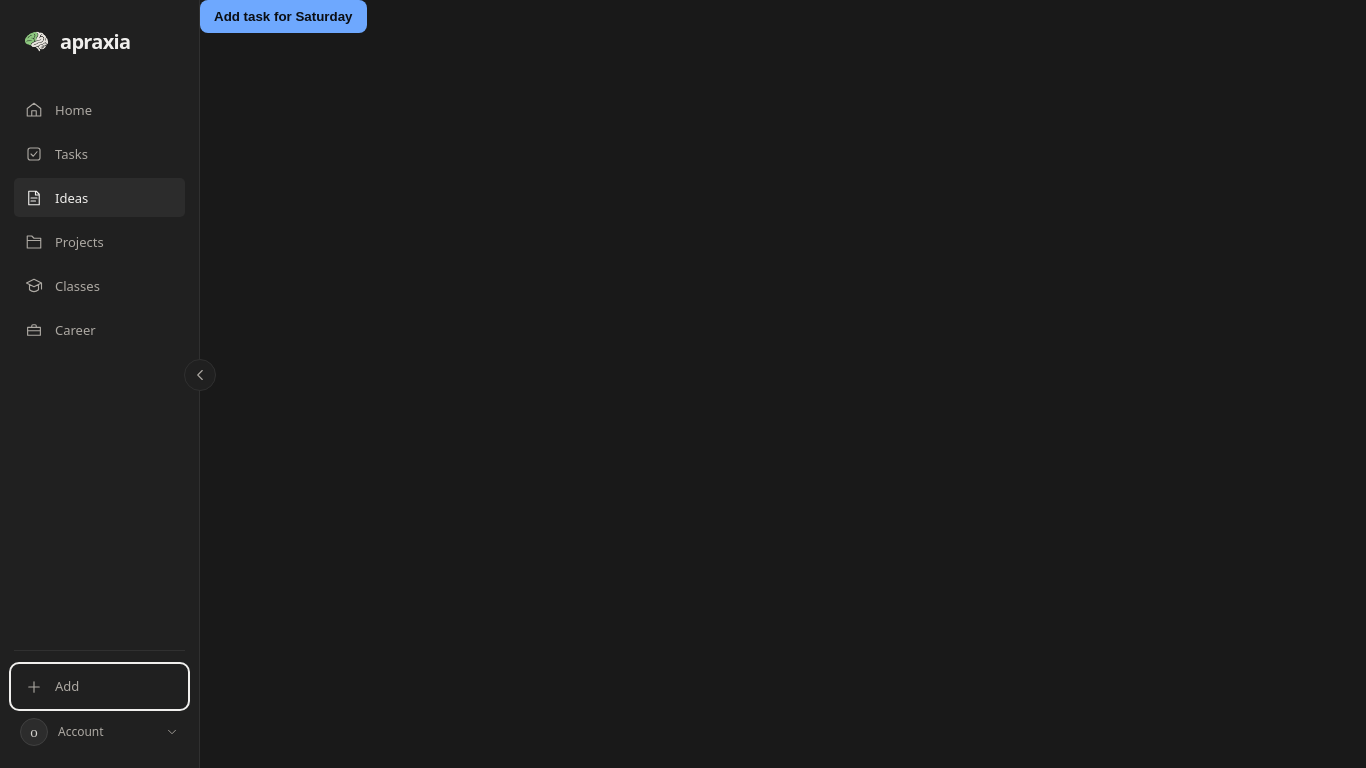
it: GlobalAddTodoController › preserves exact input when TodoService fails and permits a safe retry
The image size is (1366, 768).
Click the button with aria-label "+ add" at (100, 686), box [14, 667, 185, 706]
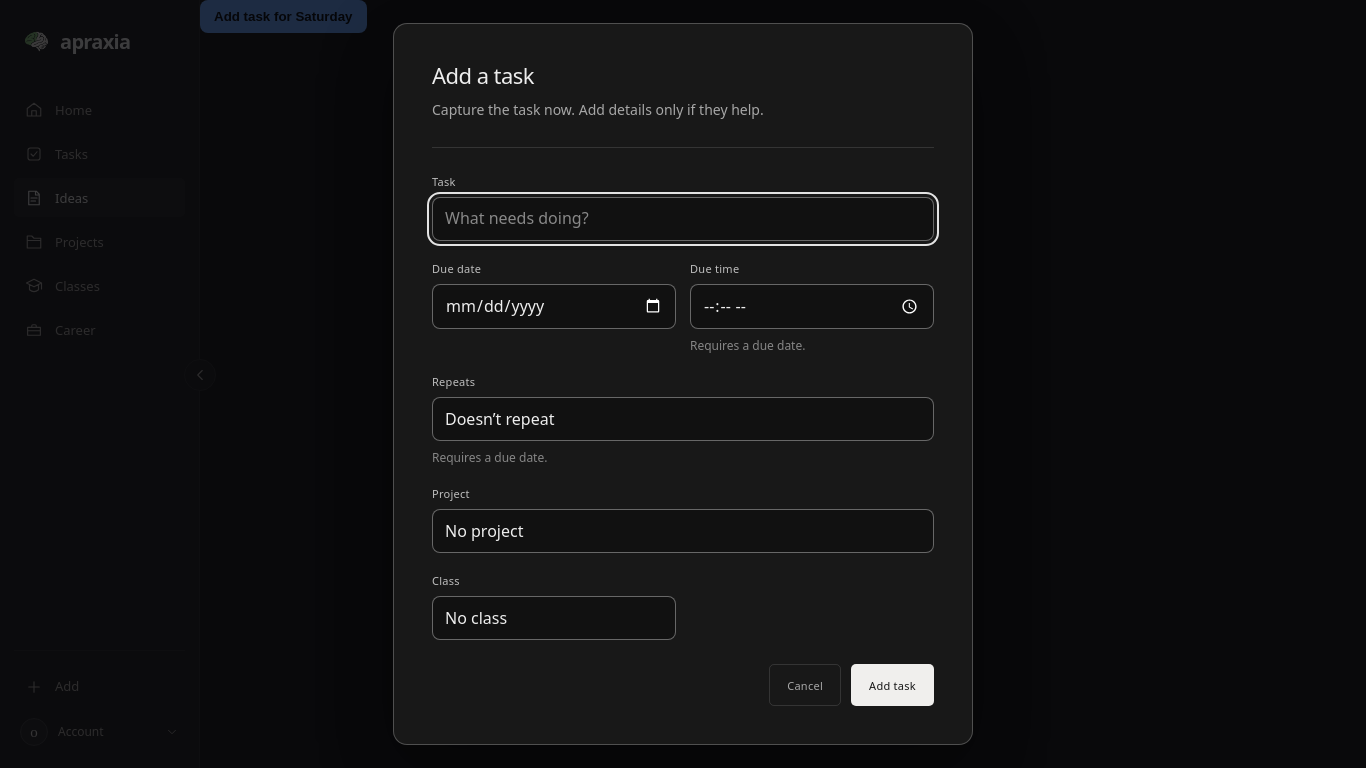
Type "  Call Sam 📞  " into the field labelled "Task" at (683, 219), box [432, 197, 934, 241]
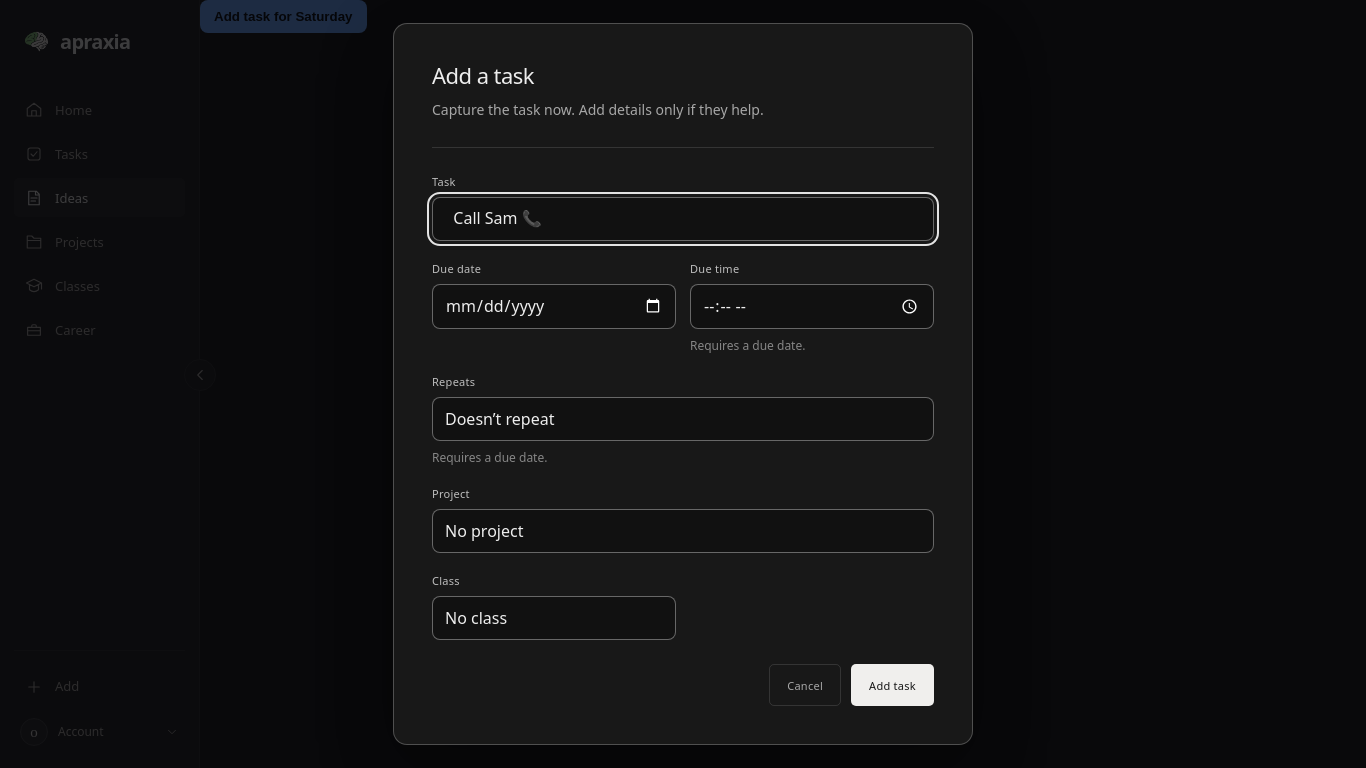
Type "2026-09-04" into the date field labelled "Due date" at (554, 306), box [432, 284, 676, 329]
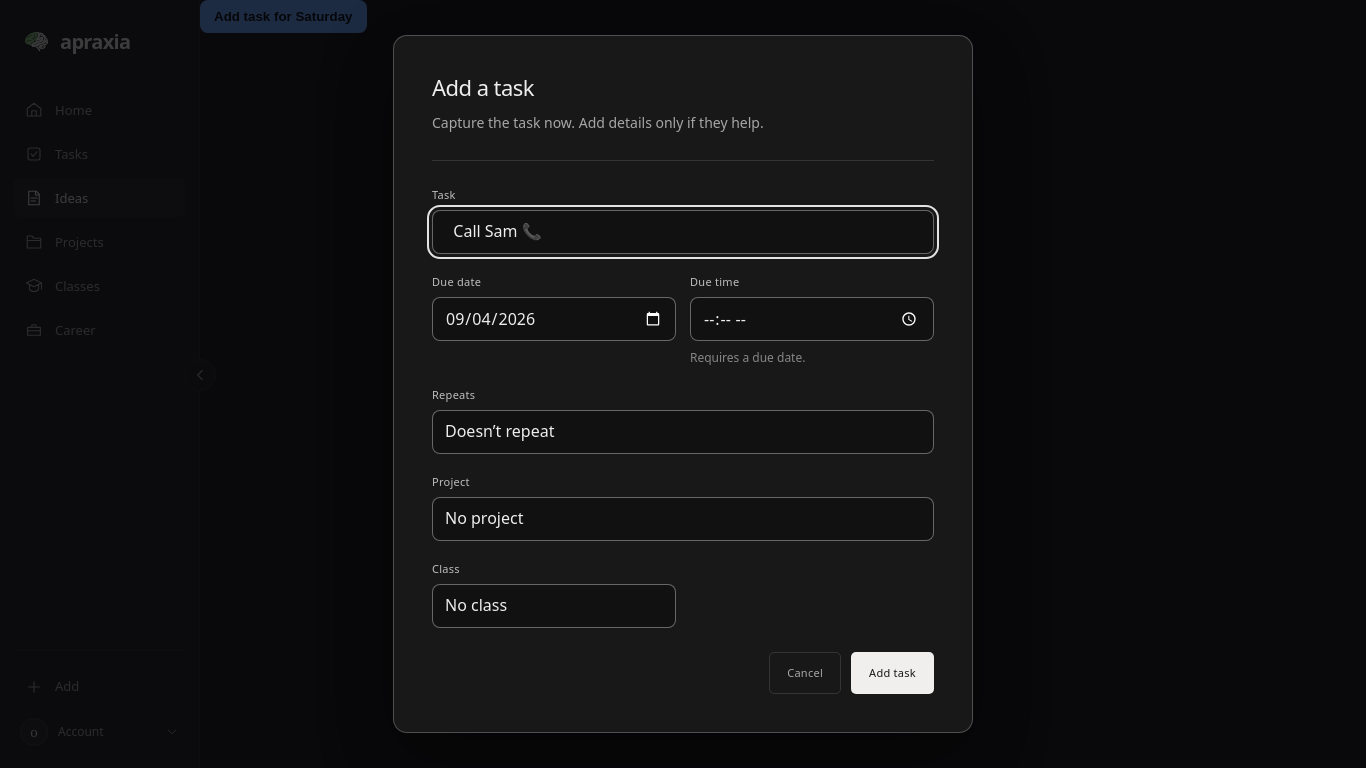
Click the button "Add task" at (893, 673), box [851, 652, 934, 694]
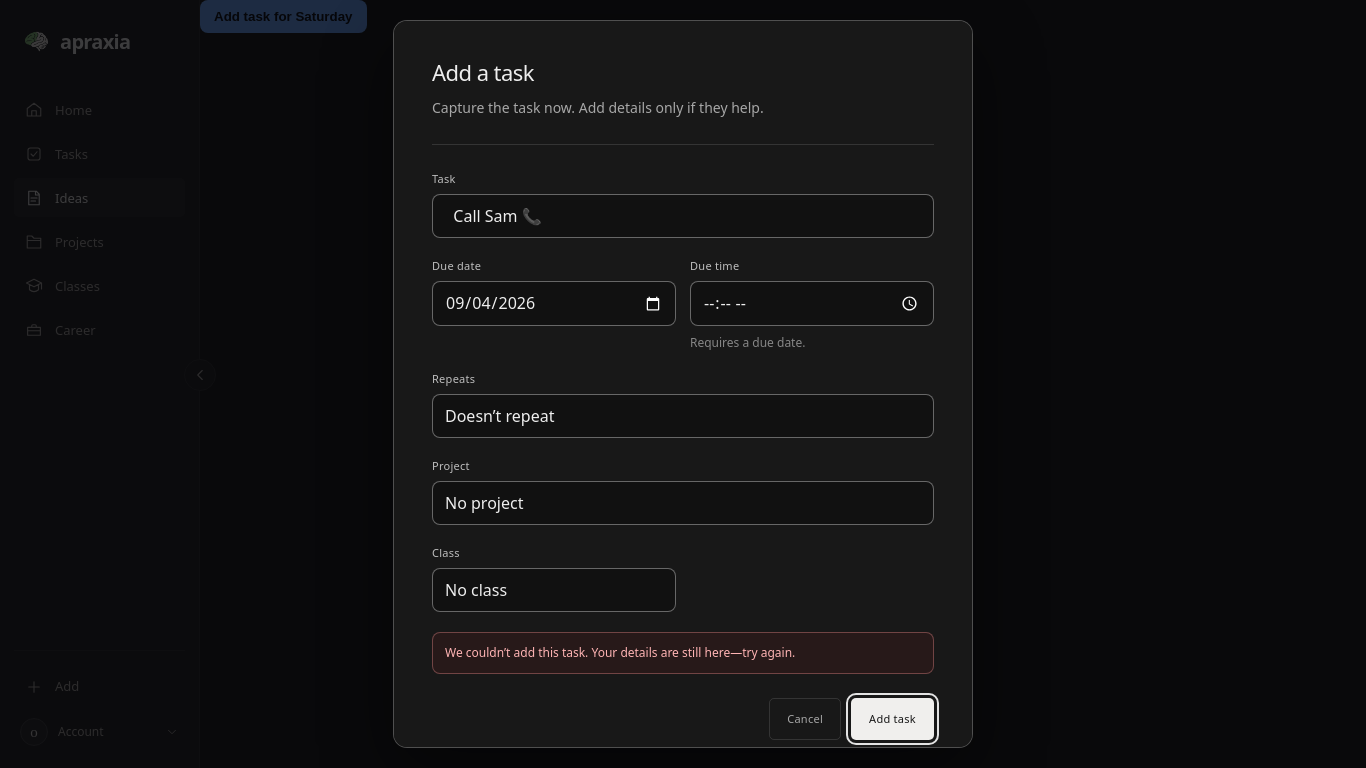
Check: the text "We couldn’t add this task. Your details are still here—try again." is shown, box [432, 632, 934, 674]
Click the button "Add task" at (893, 719), box [851, 698, 934, 740]
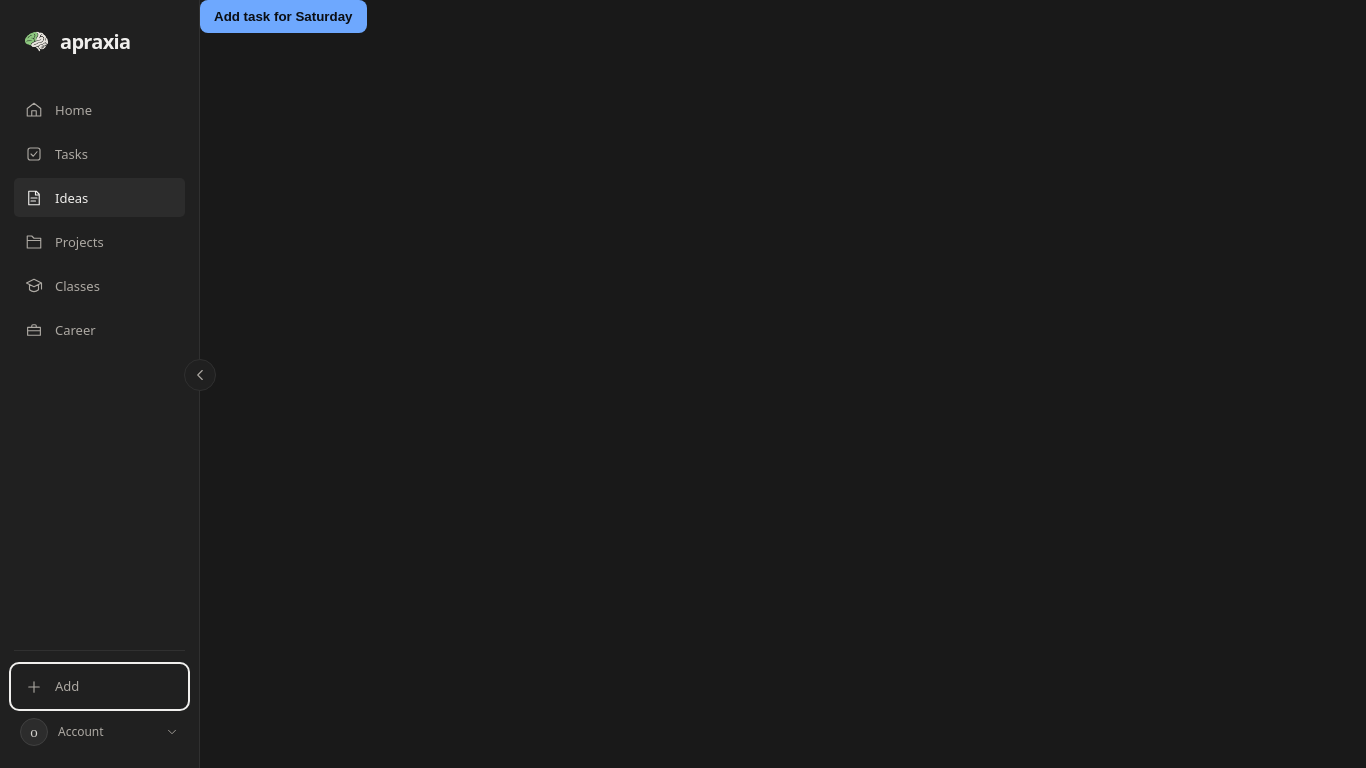
Check: the dialog is gone
